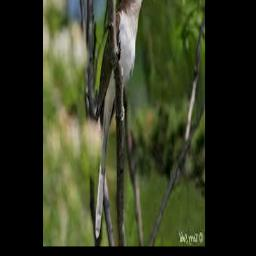Cuckoo: (94, 0, 151, 241)
